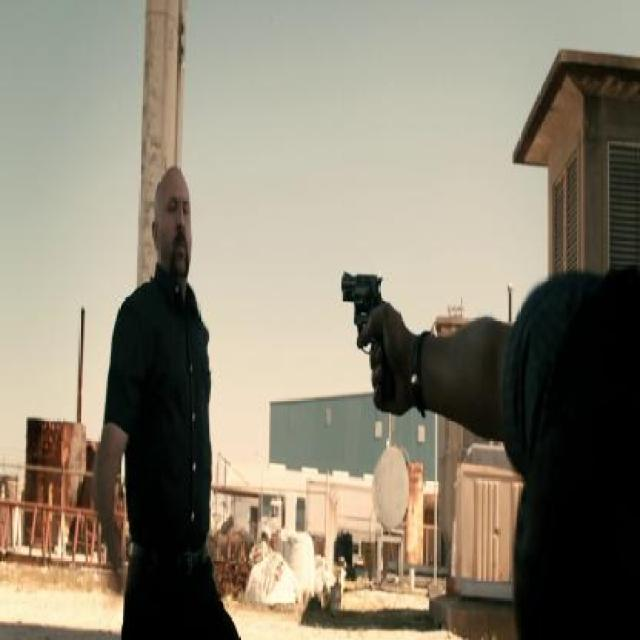guns: (335, 245, 408, 461)
